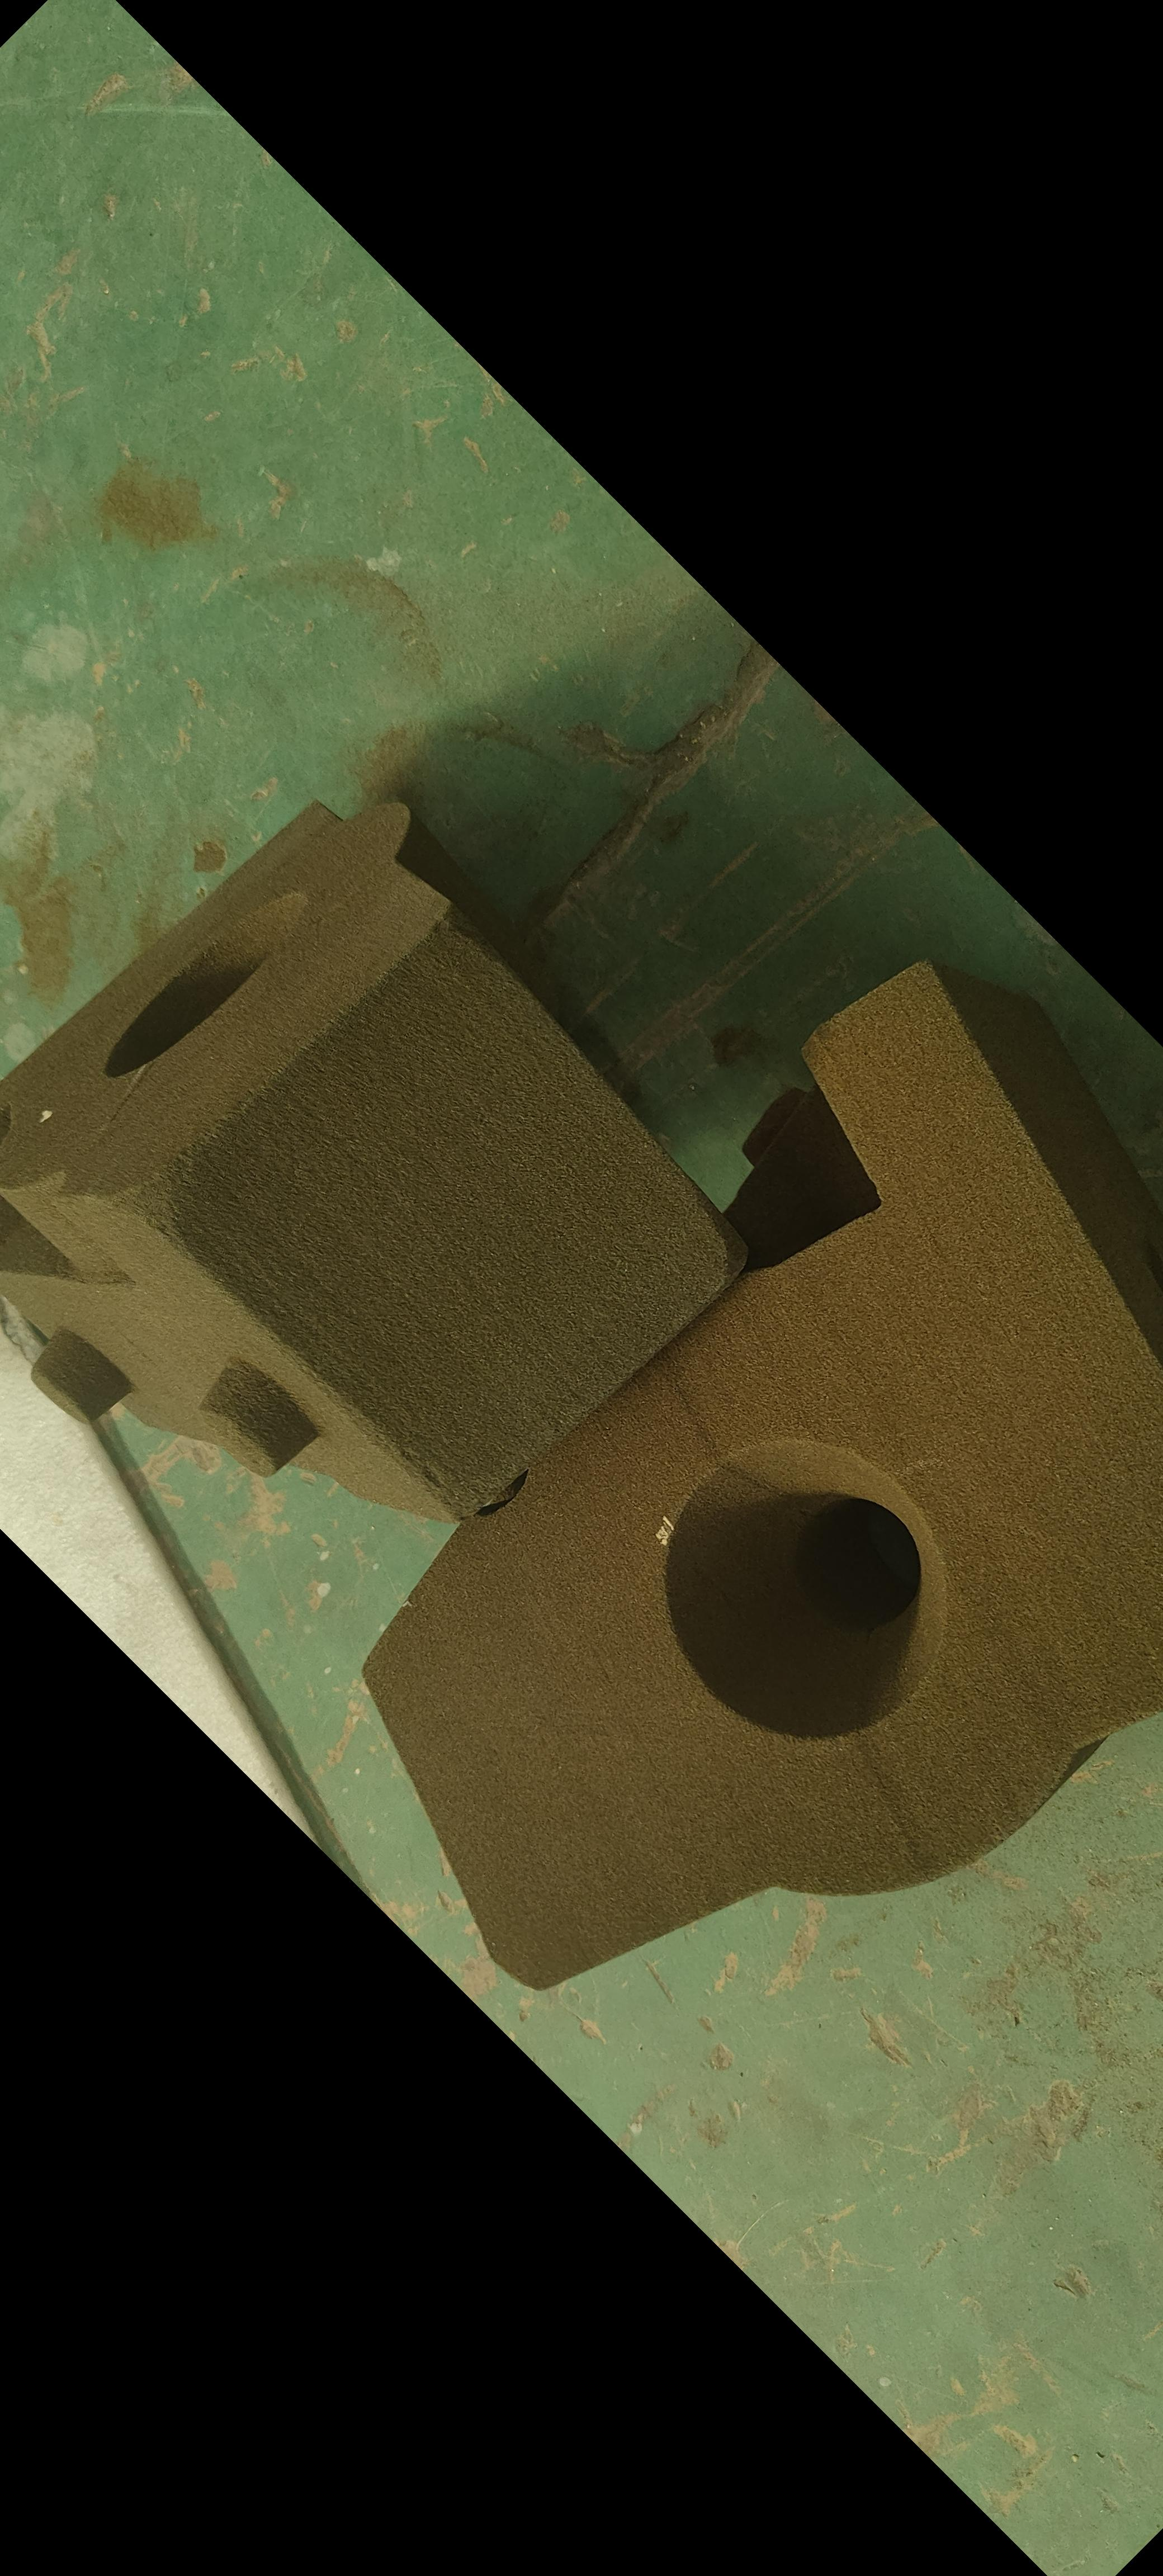pouring hole: (660, 1436, 941, 1750), (103, 889, 307, 1076)
